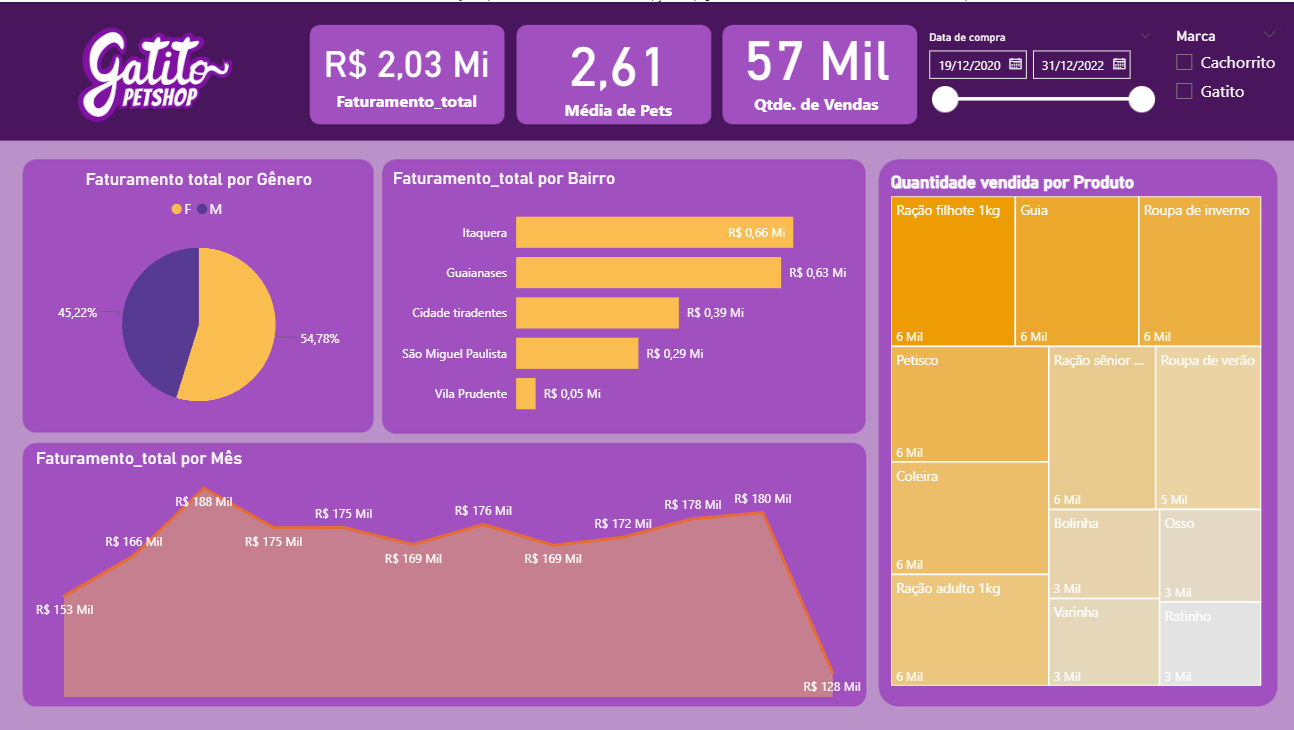

What the dashboard file says about the page in this screenshot:
{"tool":"powerbi","page":{"name":"Página 1","canvas":[1280,720],"ordinal":0},"visuals":[{"type":"card","fields":{"Values":["Avg(Clientes.Pets)"]},"box":[514.4,13.3,195,109.2],"z":0},{"type":"pieChart","title":"Faturamento total por Gênero","fields":{"Category":["Clientes.Gênero"],"Y":["Vendas.Faturamento_total"]},"box":[26.8,164.1,345.8,258.1],"z":1000},{"type":"areaChart","fields":{"Category":["Vendas.Data de compra.Variation.Hierarquia de datas.Ano","Vendas.Data de compra.Variation.Hierarquia de datas.Trimestre","Vendas.Data de compra.Variation.Hierarquia de datas.Mês","Vendas.Data de compra.Variation.Hierarquia de datas.Dia"],"Y":["Vendas.Faturamento_total"]},"box":[34.1,438.7,820.6,249.8],"z":2000},{"type":"card","fields":{"Values":["Vendas.Faturamento_total"]},"box":[306.2,20.4,196,95.9],"z":3000},{"type":"card","fields":{"Values":["Sum(Vendas.Quantidade)"]},"box":[694.1,7.1,224.6,109.2],"z":4000},{"type":"slicer","fields":{"Values":["Vendas.Data de compra"]},"box":[904.4,23.5,242.9,92.9],"z":5000},{"type":"slicer","fields":{"Values":["Produtos.Marca"]},"box":[1146.8,20.6,123.9,91.9],"z":6000},{"type":"clusteredBarChart","fields":{"Category":["Clientes.Bairro"],"Y":["Vendas.Faturamento_total"]},"box":[385,163.1,459.4,259.1],"z":7000},{"type":"treemap","title":"Quantidade vendida por Produto","fields":{"Group":["Produtos.Nome produto"],"Values":["Sum(Vendas.Quantidade)"]},"box":[875.4,167.2,373.7,509.9],"z":8000},{"type":"shape","box":[2.9,3.9,61.9,116],"z":8001}]}

Visuals, with their boxes in screenshot pixels (x1, y1, x2, y2), scaled from the page's 1280x720 canvas onto the 1294x730 screenshot:
card - Avg(Clientes.Pets): bbox(520, 13, 717, 124)
"Faturamento total por Gênero" pieChart: bbox(27, 166, 377, 428)
areaChart - Vendas.Data de compra.Variation.Hierarquia de datas.Ano x Vendas.Data de compra.Variation.Hierarquia de datas.Trimestre: bbox(34, 445, 864, 698)
card - Vendas.Faturamento_total: bbox(310, 21, 508, 118)
card - Sum(Vendas.Quantidade): bbox(702, 7, 929, 118)
slicer - Vendas.Data de compra: bbox(914, 24, 1160, 118)
slicer - Produtos.Marca: bbox(1159, 21, 1285, 114)
clusteredBarChart - Clientes.Bairro x Vendas.Faturamento_total: bbox(389, 165, 854, 428)
"Quantidade vendida por Produto" treemap: bbox(885, 170, 1263, 687)
shape: bbox(3, 4, 66, 122)
